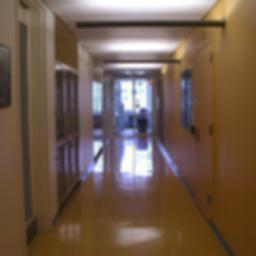Puerta: (21, 13, 45, 235), (194, 43, 212, 206)
